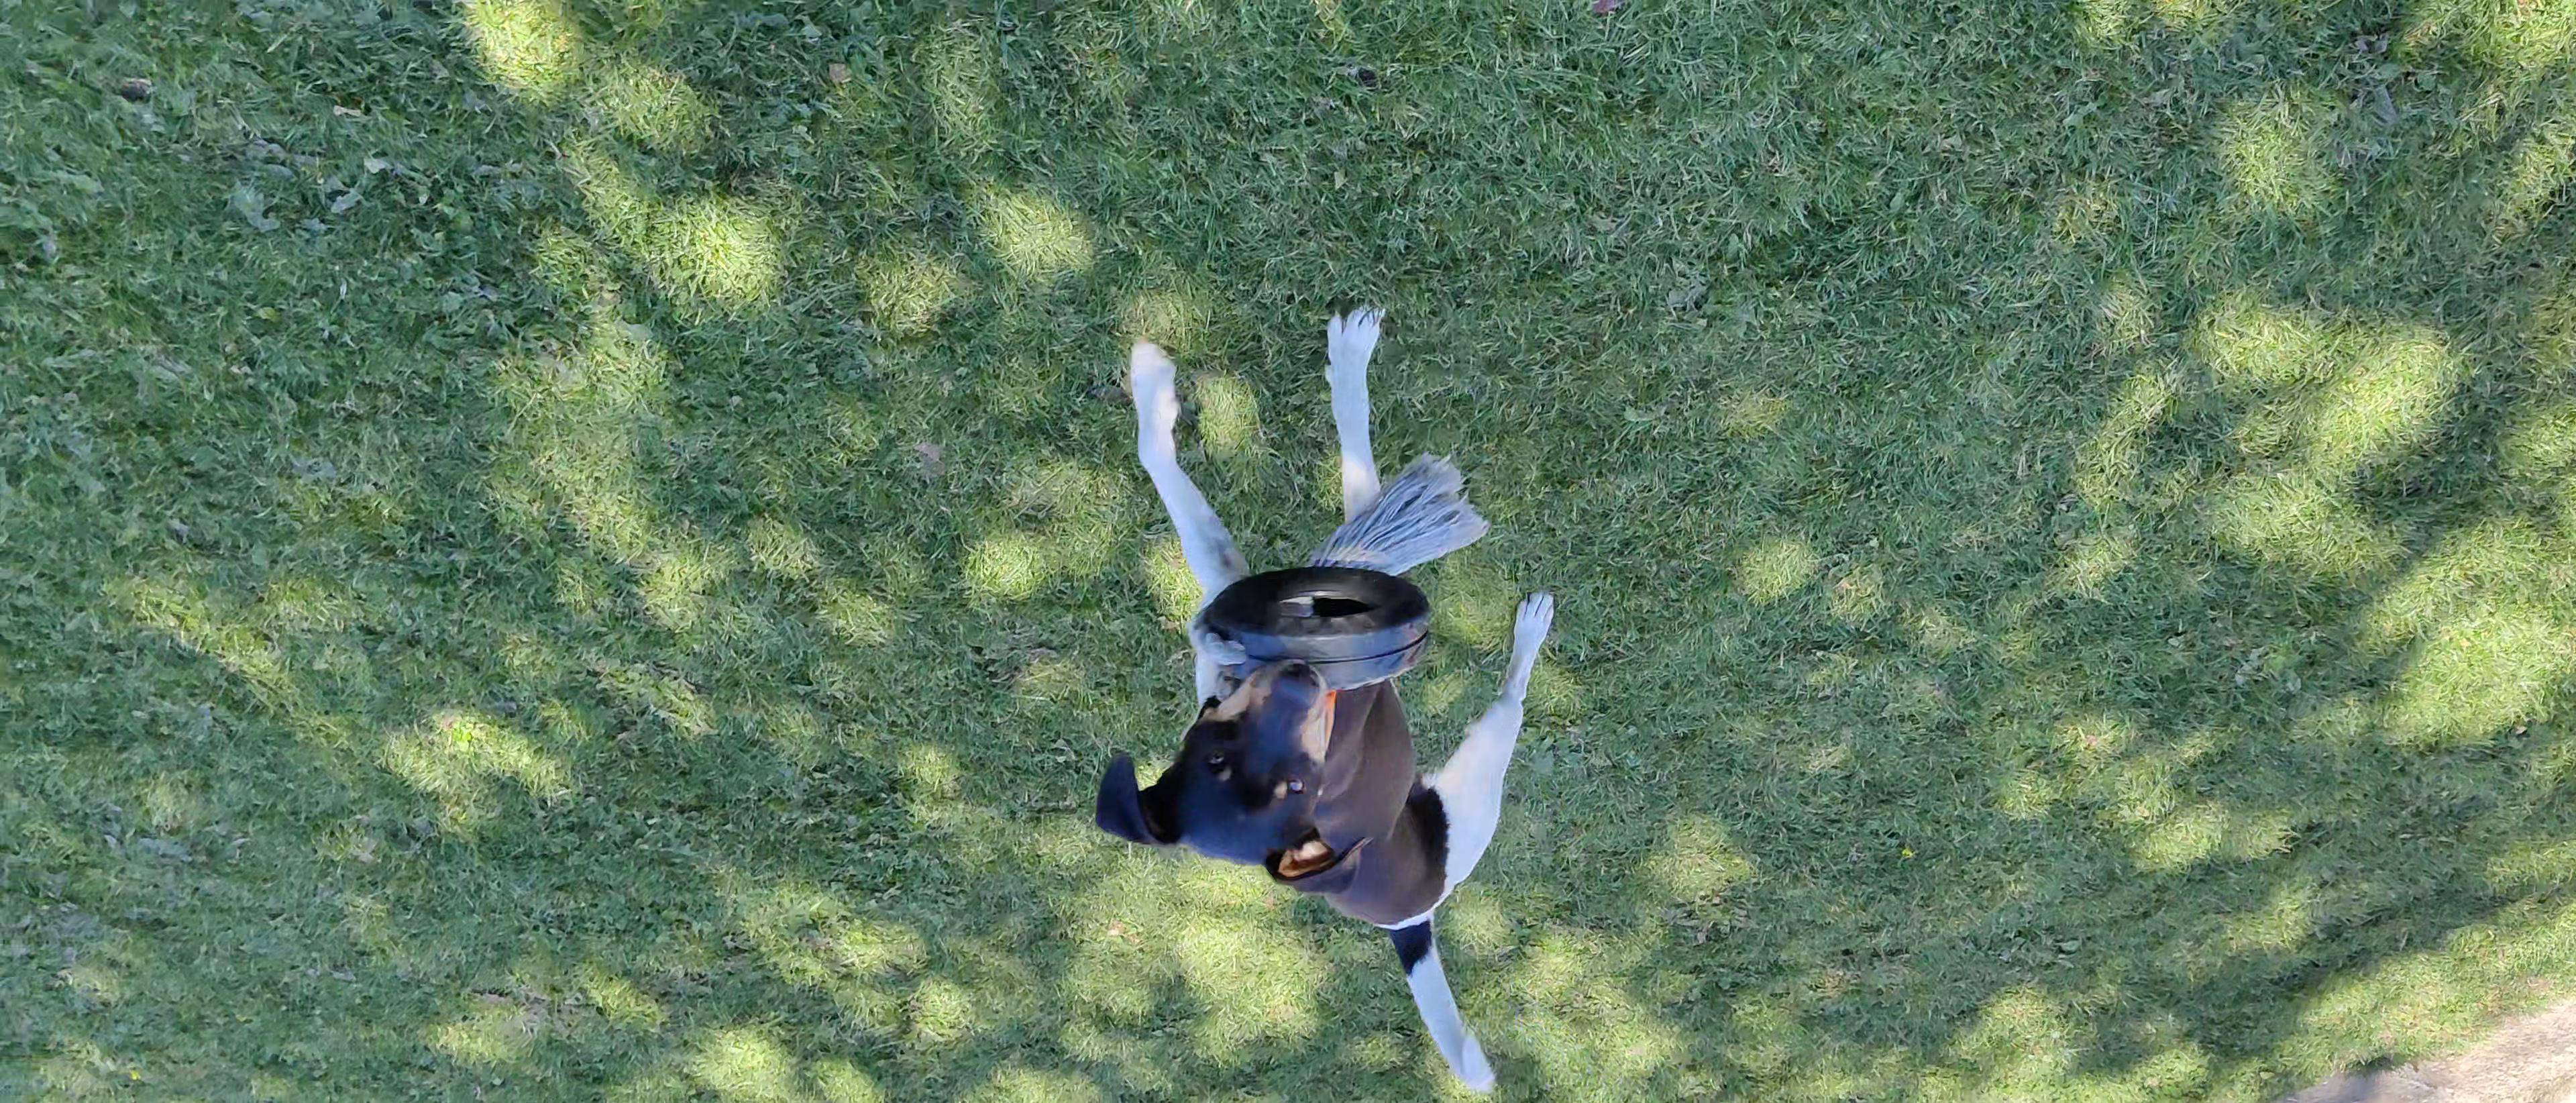Dog: (1079, 299, 1572, 1093)
